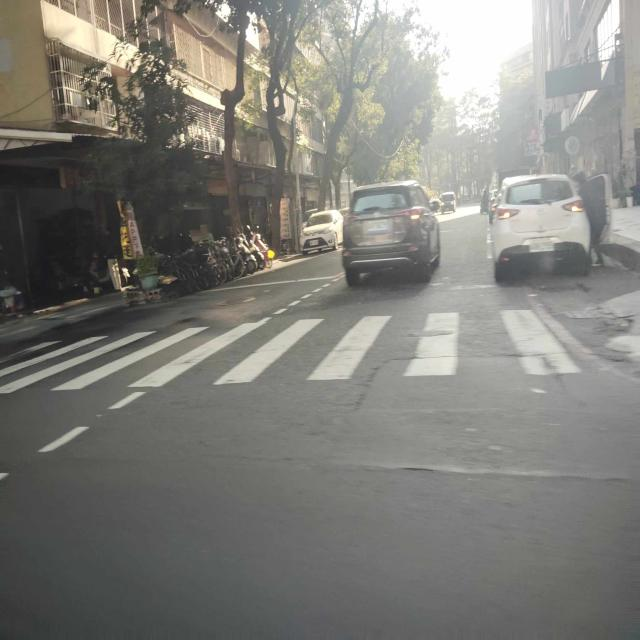zebra crossing: (0, 309, 576, 392)
